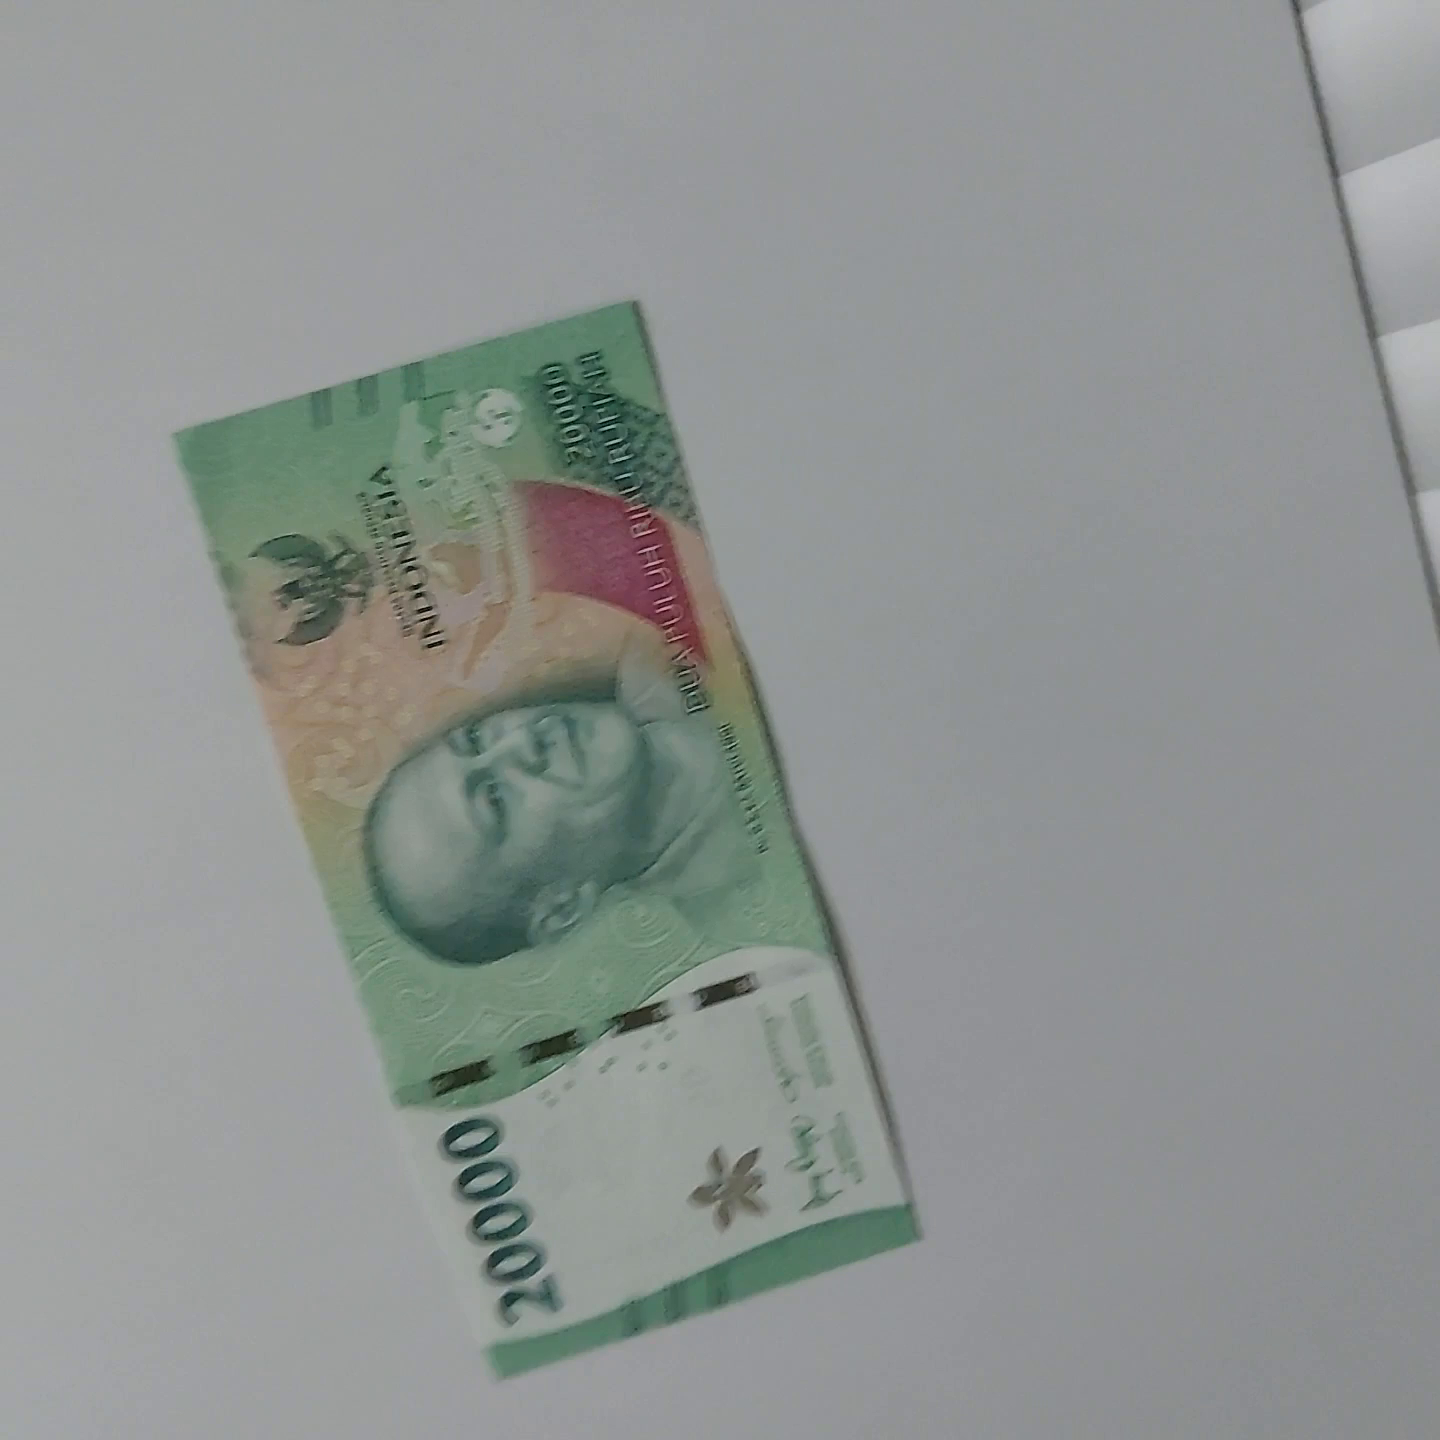20k: (148, 439, 647, 1440)
